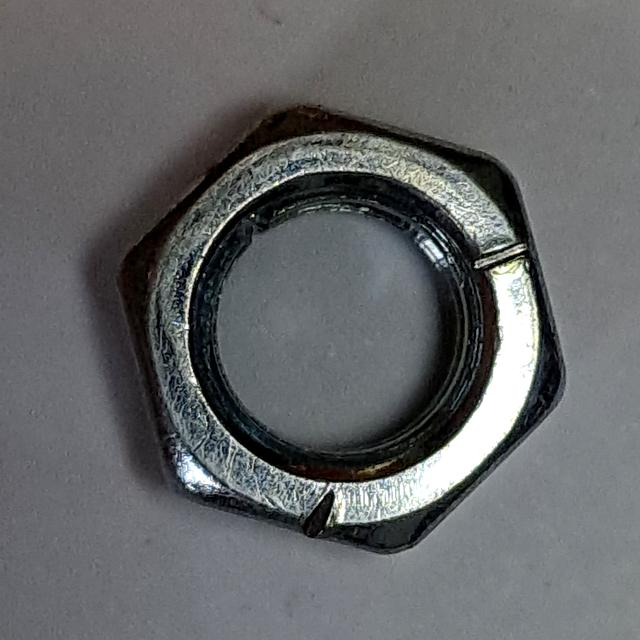Scratches: (109, 89, 583, 570)
